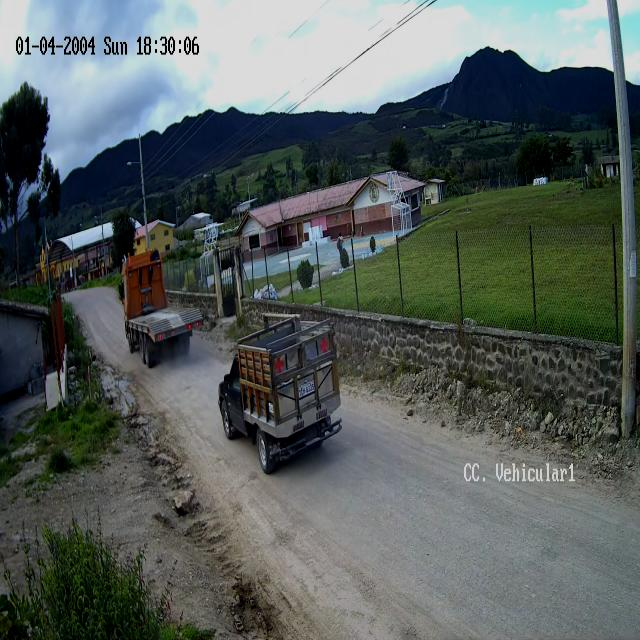CMT: (220, 320, 342, 476)
TRUCK: (118, 250, 204, 369)
